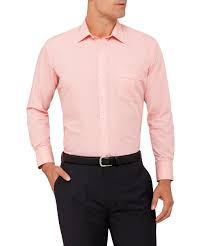F_belt: (57, 148, 149, 172)
F_dress pants: (48, 151, 158, 246)
F_shirt: (19, 22, 188, 183)
